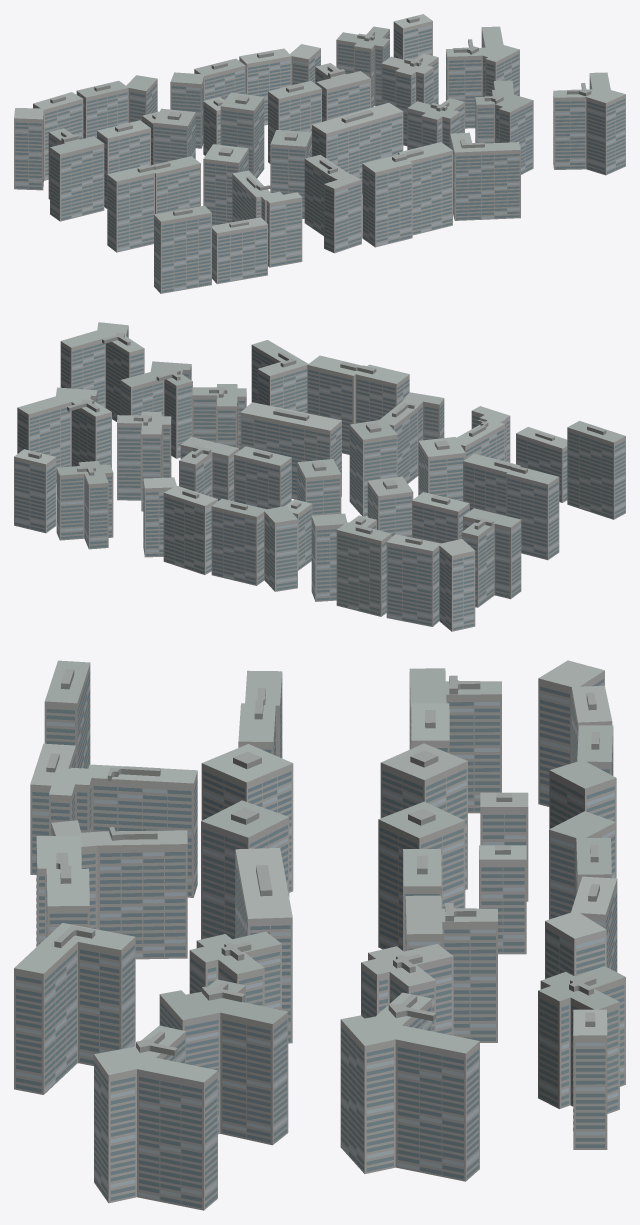
Rendered from apt-a15701007.glb.
3 renders of one model, top to bottom at view 1: azimuth 30°, elevation 25°; view 2: azimuth 150°, elevation 25°; view 3: azimuth 270°, elevation 25°, orthographic. The views are drawn at different scales.
Parts seen in each view (by area): view 1: apt-a15701007; view 2: apt-a15701007; view 3: apt-a15701007.
Part boxes in pixels (x1=…): apt-a15701007: x1=14, y1=14, x2=625, y2=293; apt-a15701007: x1=14, y1=322, x2=625, y2=631; apt-a15701007: x1=14, y1=660, x2=625, y2=1210.
Size of the model in its own units: 395 by 60 by 241.
